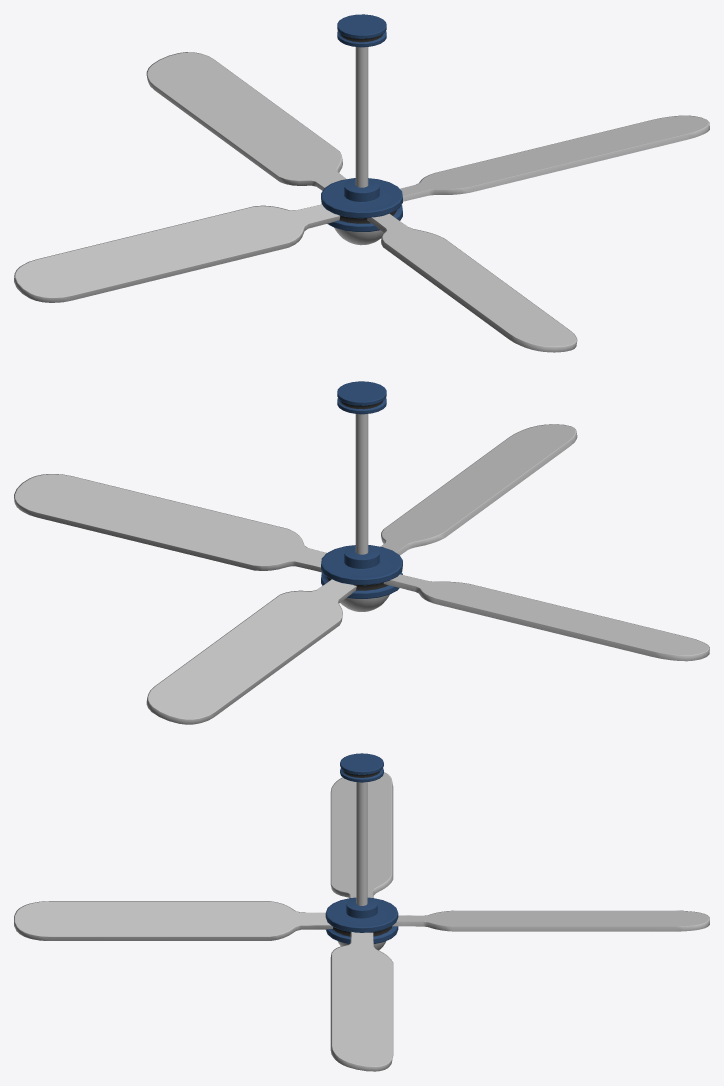
File: fan.fbx
The picture shows the model from 3 angles, top to bottom: view 1: azimuth 30°, elevation 25°; view 2: azimuth 150°, elevation 25°; view 3: azimuth 270°, elevation 25°; orthographic projection. The views are drawn at different scales.
Parts seen in each view (by area): view 1: polySurface12; view 2: polySurface12; view 3: polySurface12.
Part boxes in pixels (bbox=[...]): polySurface12: bbox=[14, 14, 709, 352]; polySurface12: bbox=[14, 381, 709, 724]; polySurface12: bbox=[14, 753, 709, 1071].
Bounding box in the file's own units: 2.93 × 0.8884 × 2.93.
